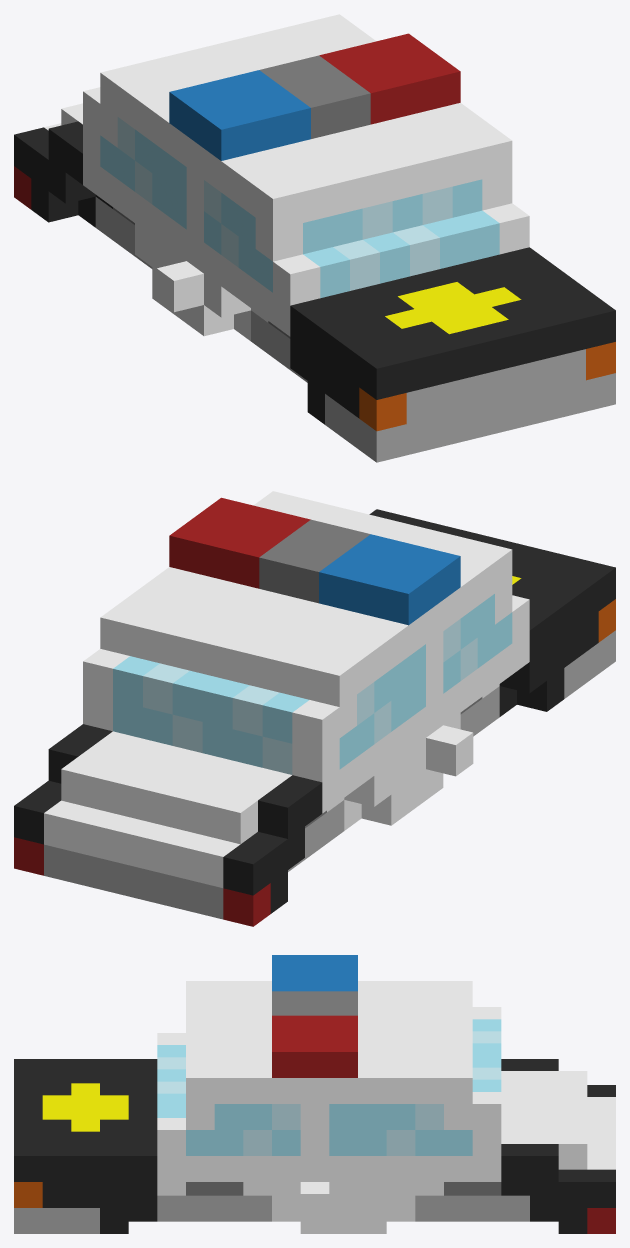
The model's file is police_car_frame.obj.
3 renders of one model, top to bottom at view 1: azimuth 30°, elevation 25°; view 2: azimuth 150°, elevation 25°; view 3: azimuth 270°, elevation 25°, orthographic. The views are drawn at different scales.
Parts seen in each view (by area): view 1: Police Car Frame; view 2: Police Car Frame; view 3: Police Car Frame.
Part boxes in pixels (x1,y1,x2,y2): Police Car Frame: (14, 14, 615, 462); Police Car Frame: (14, 491, 615, 926); Police Car Frame: (14, 955, 615, 1233).
Bounding box in the file's own units: 1 × 0.7 × 2.1.
Materials: 1 (1 with a texture image).
